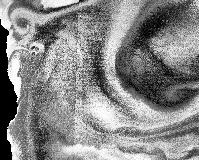CE: (9, 7, 37, 36)
